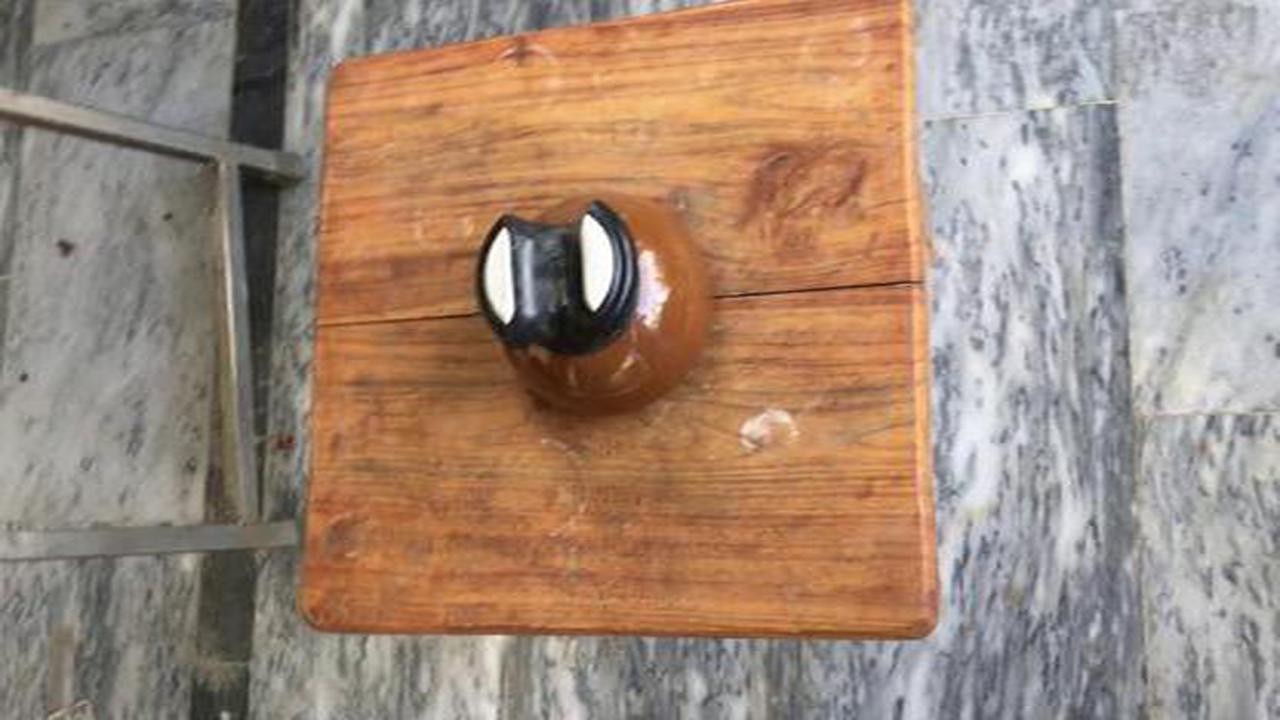insulator_pin: (459, 187, 748, 431)
